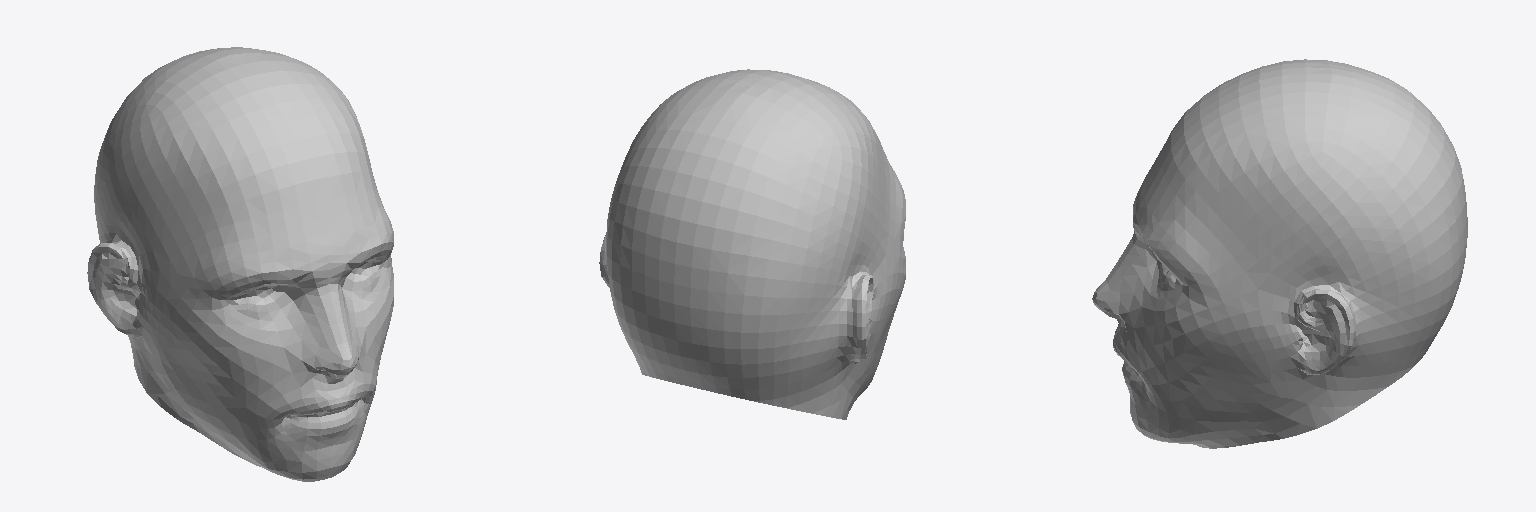
Rendered from cap.obj.
3 renders of one model, left to right at view 1: azimuth 30°, elevation 25°; view 2: azimuth 150°, elevation 25°; view 3: azimuth 270°, elevation 25°, orthographic.
Parts seen in each view (by area): view 1: cap; view 2: cap; view 3: cap.
Part boxes in pixels (x1,y1,x2,y2): cap: (87,47,393,481); cap: (599,69,905,419); cap: (1092,59,1467,448).
Size of the model in its own units: 2.06 by 2.7 by 2.53.